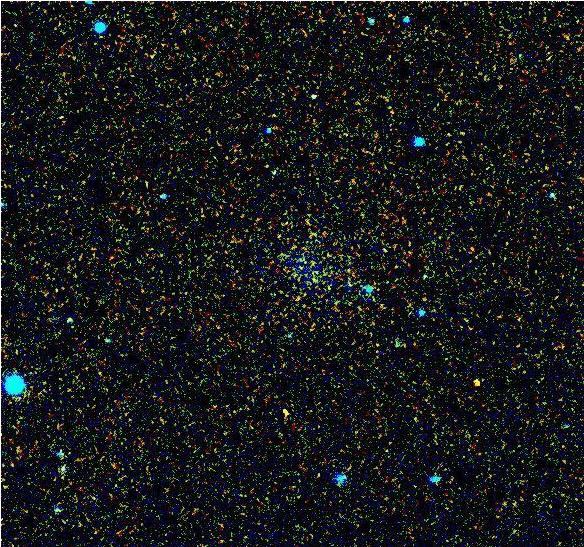star: (461, 367, 491, 397)
